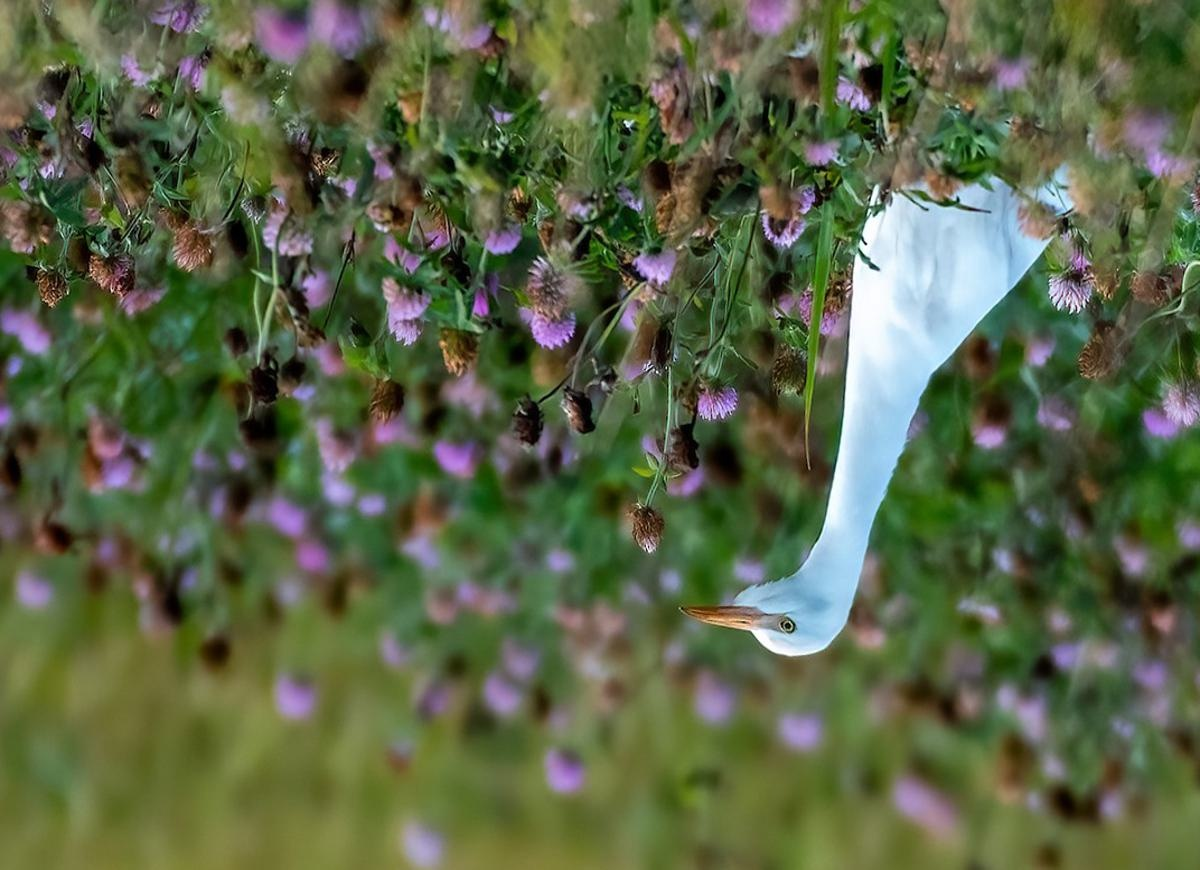egret: (676, 194, 1052, 664)
